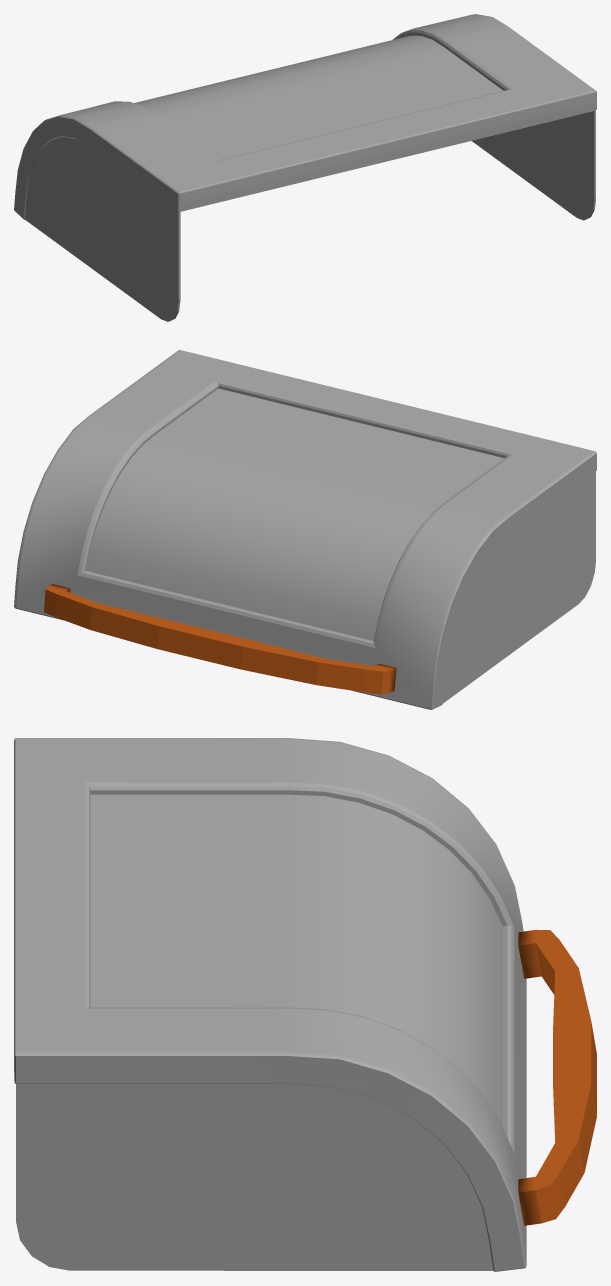
The model's file is Toasty Grill Lid 2.fbx.
The picture shows the model from 3 angles, top to bottom: view 1: azimuth 30°, elevation 25°; view 2: azimuth 150°, elevation 25°; view 3: azimuth 270°, elevation 25°; orthographic projection. The views are drawn at different scales.
Visible parts, largest first — view 1: lid; view 2: lid, handle; view 3: lid, handle.
Boxes of the visible parts, x1,y1,x2,y2 form: lid: (14, 14, 596, 321); lid: (14, 350, 596, 709); handle: (43, 584, 396, 694); lid: (14, 738, 526, 1271); handle: (518, 929, 596, 1225).
Size of the model in its own units: 437 by 140 by 339.
